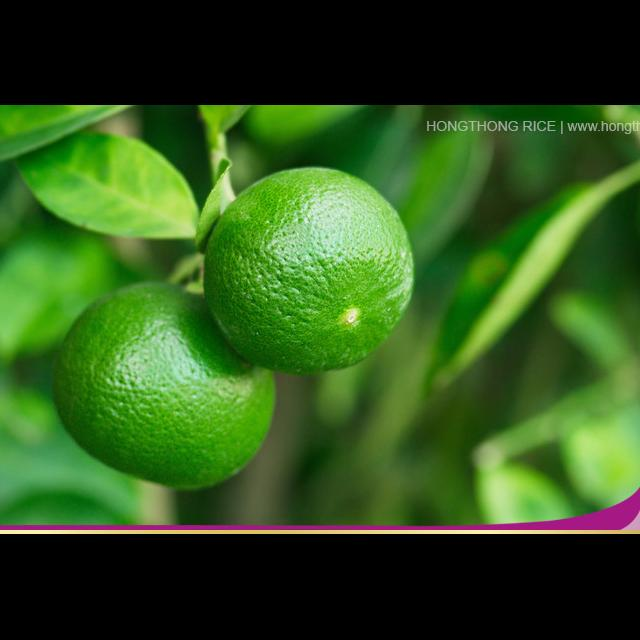lime: (46, 276, 278, 494), (199, 163, 418, 382)
